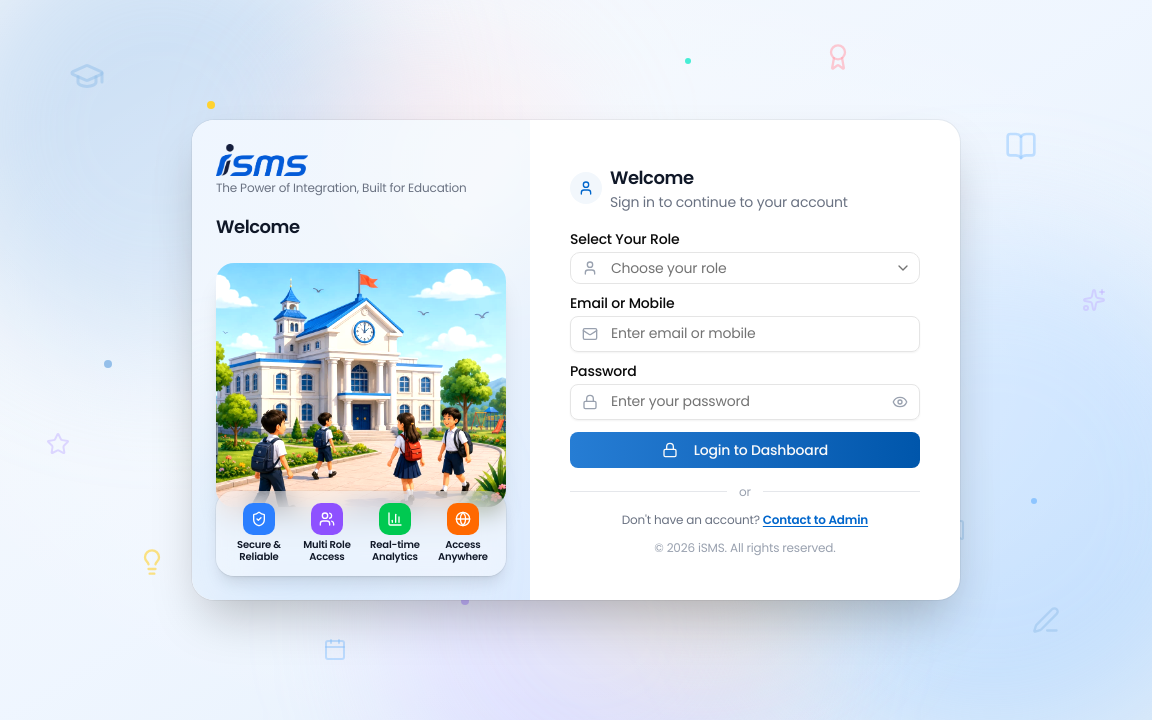
LoginForm › labels the username field as '<Role> Code' for code/DOB roles and 'Email or Mobile' otherwise
Expected: the text "Email or Mobile" is shown, [570,293,674,313]
Expected: the field with placeholder "Enter email or mobile" is shown, [570,316,920,352]
Click the dropdown labelled "Choose your role ▼".
click(669, 268)  # box [570,252,920,284]
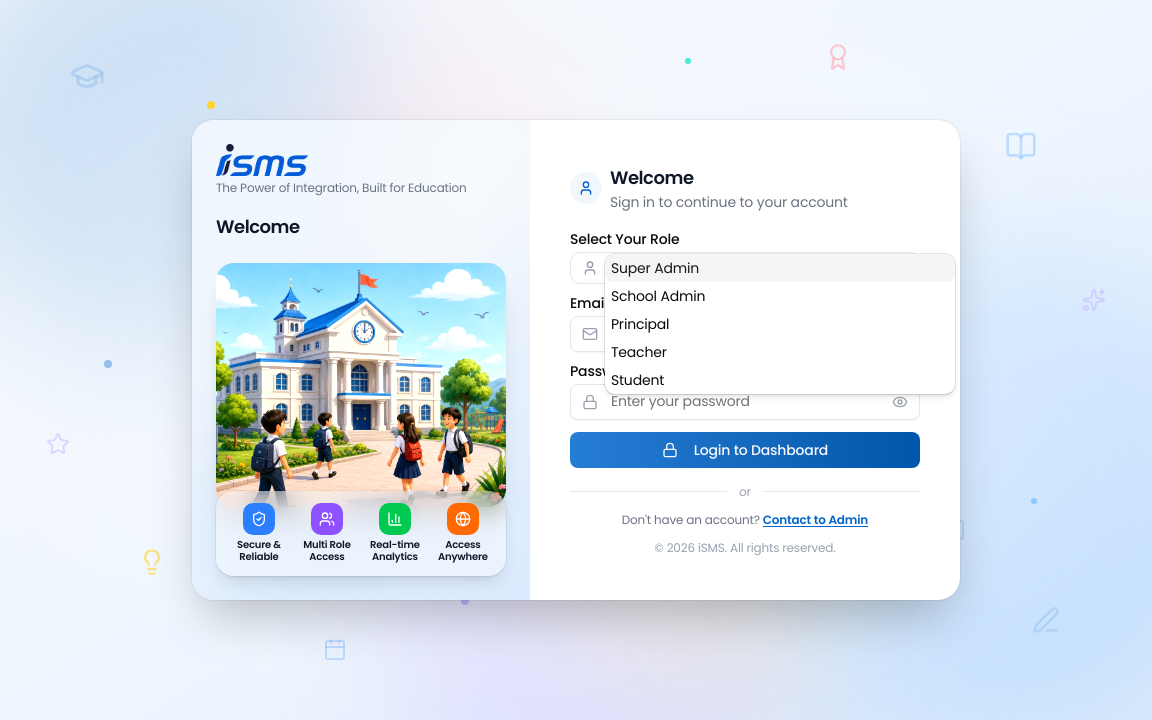
Click the option "Teacher".
click(639, 352)  # box [611,342,667,362]
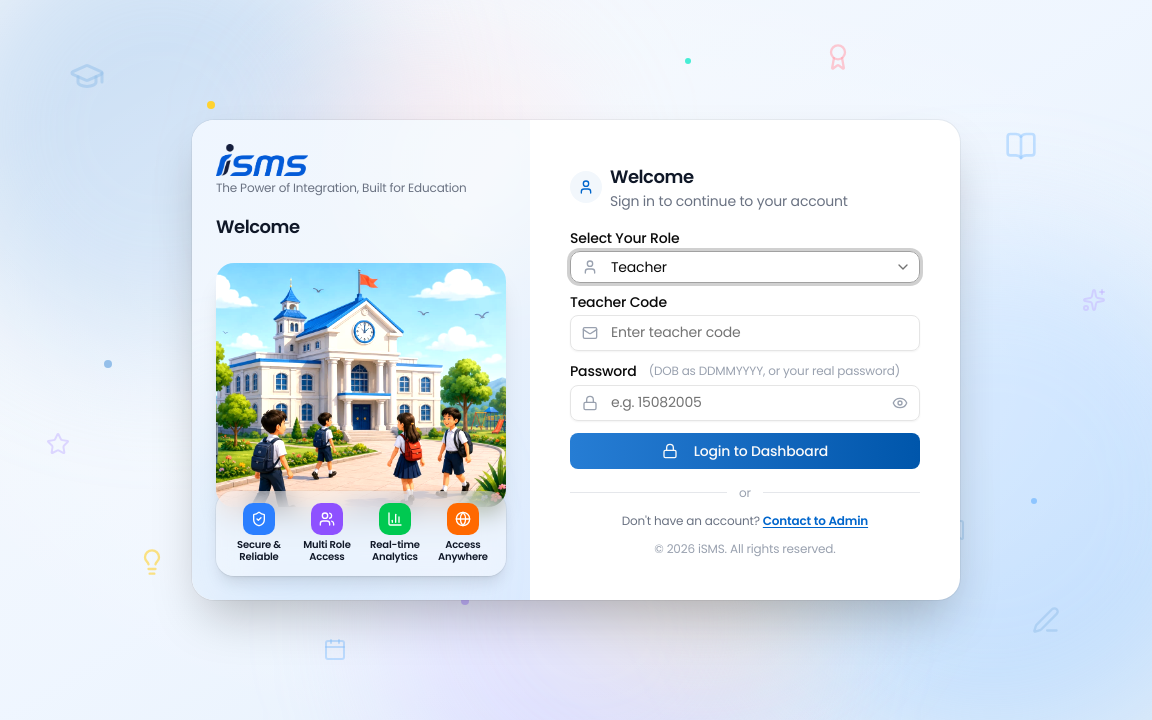
Result: the field with placeholder "Enter teacher code" is shown at [570,315,920,351]
Click the dropdown named "role".
click(639, 267)  # box [570,251,920,283]
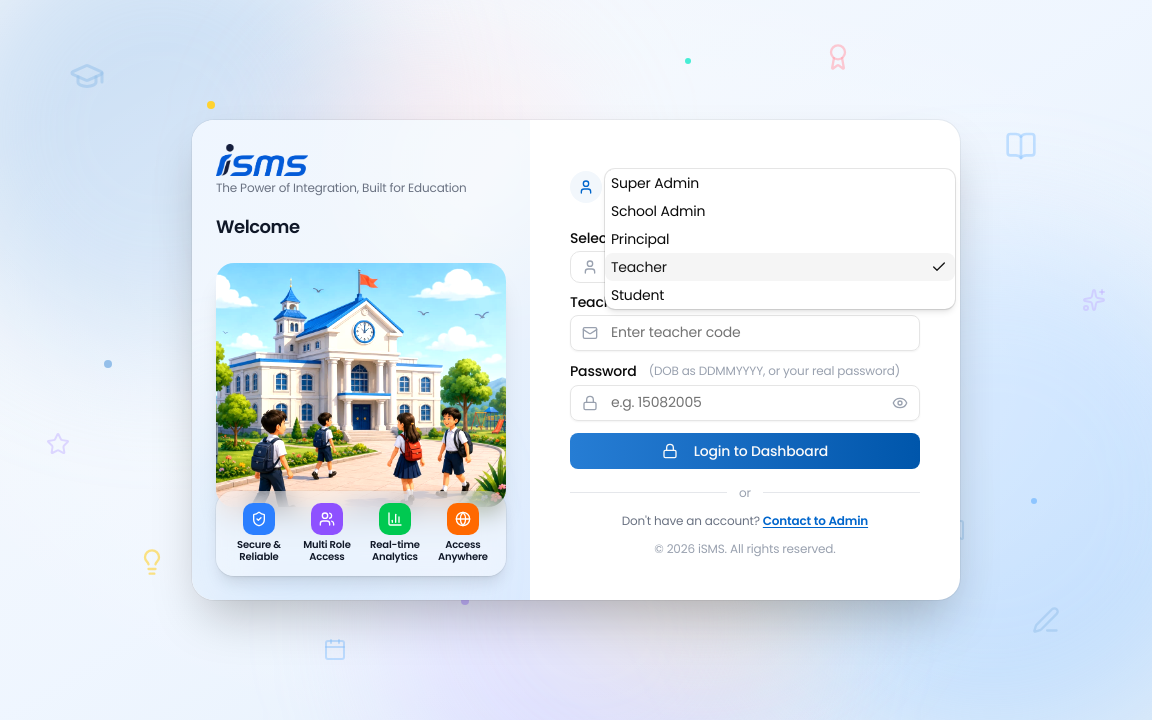
Click the option "Principal".
click(640, 239)  # box [611,229,669,249]
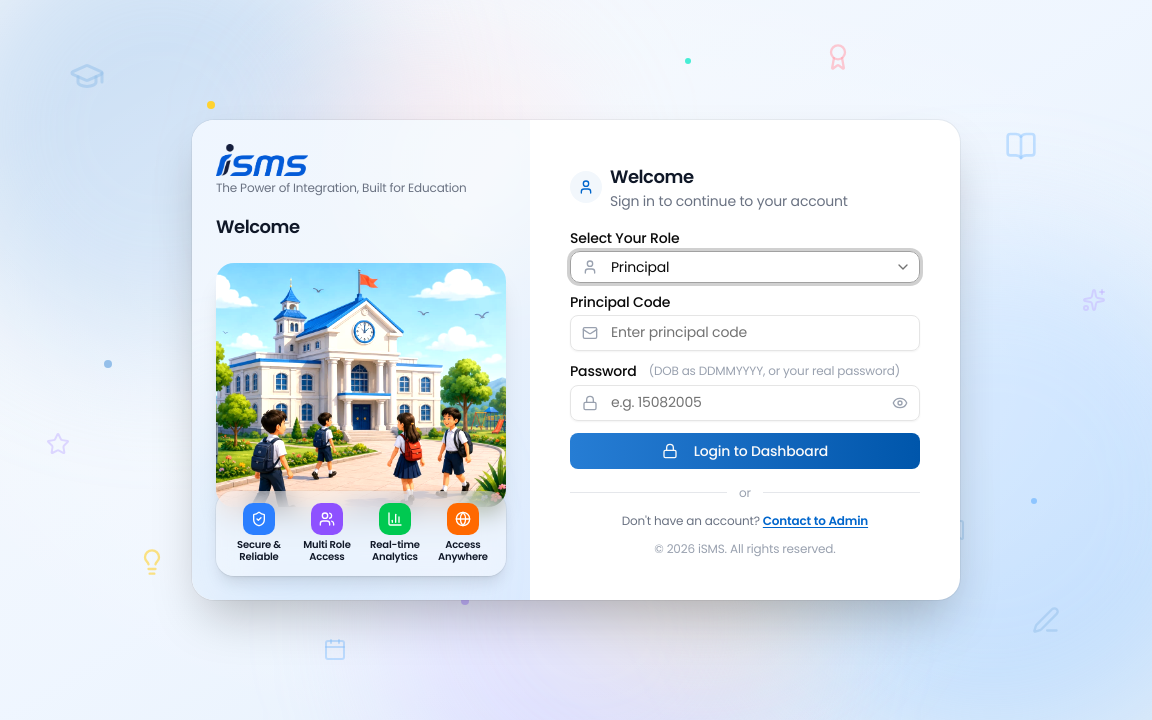
Result: the field with placeholder "Enter principal code" is shown at [570,315,920,351]
Click the dropdown named "role".
click(640, 267)  # box [570,251,920,283]
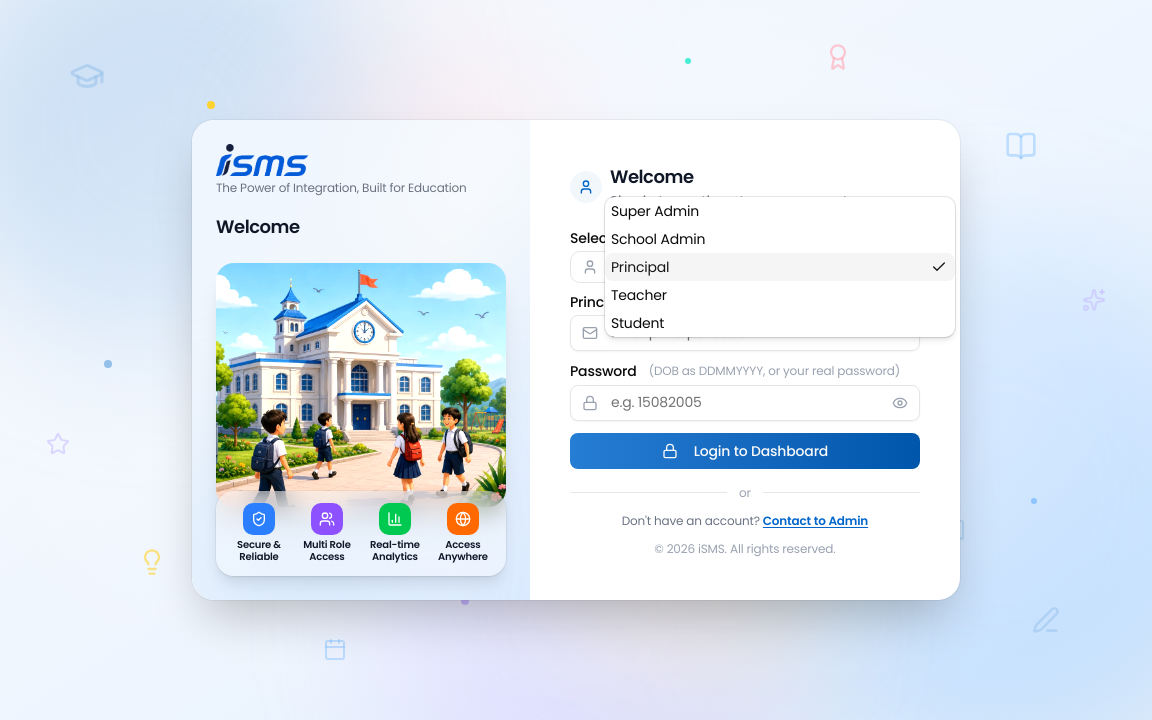
Click the option "Student".
click(638, 323)  # box [611,313,664,333]
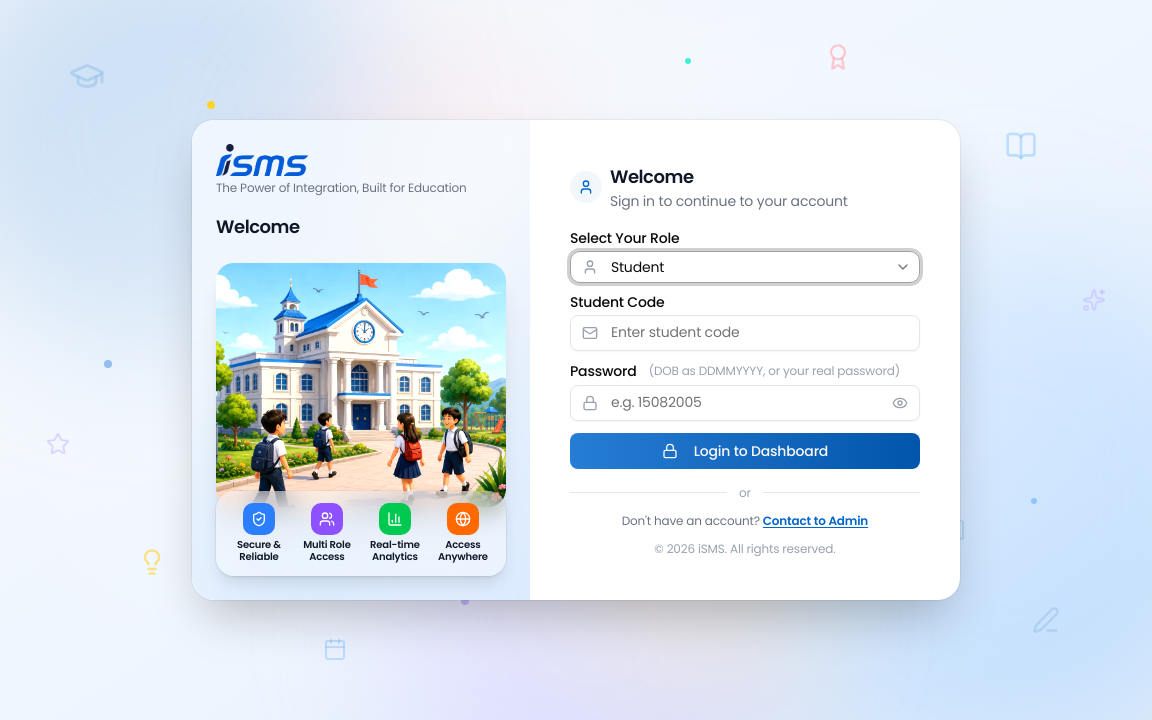
Result: the field with placeholder "Enter student code" is shown at [570,315,920,351]
